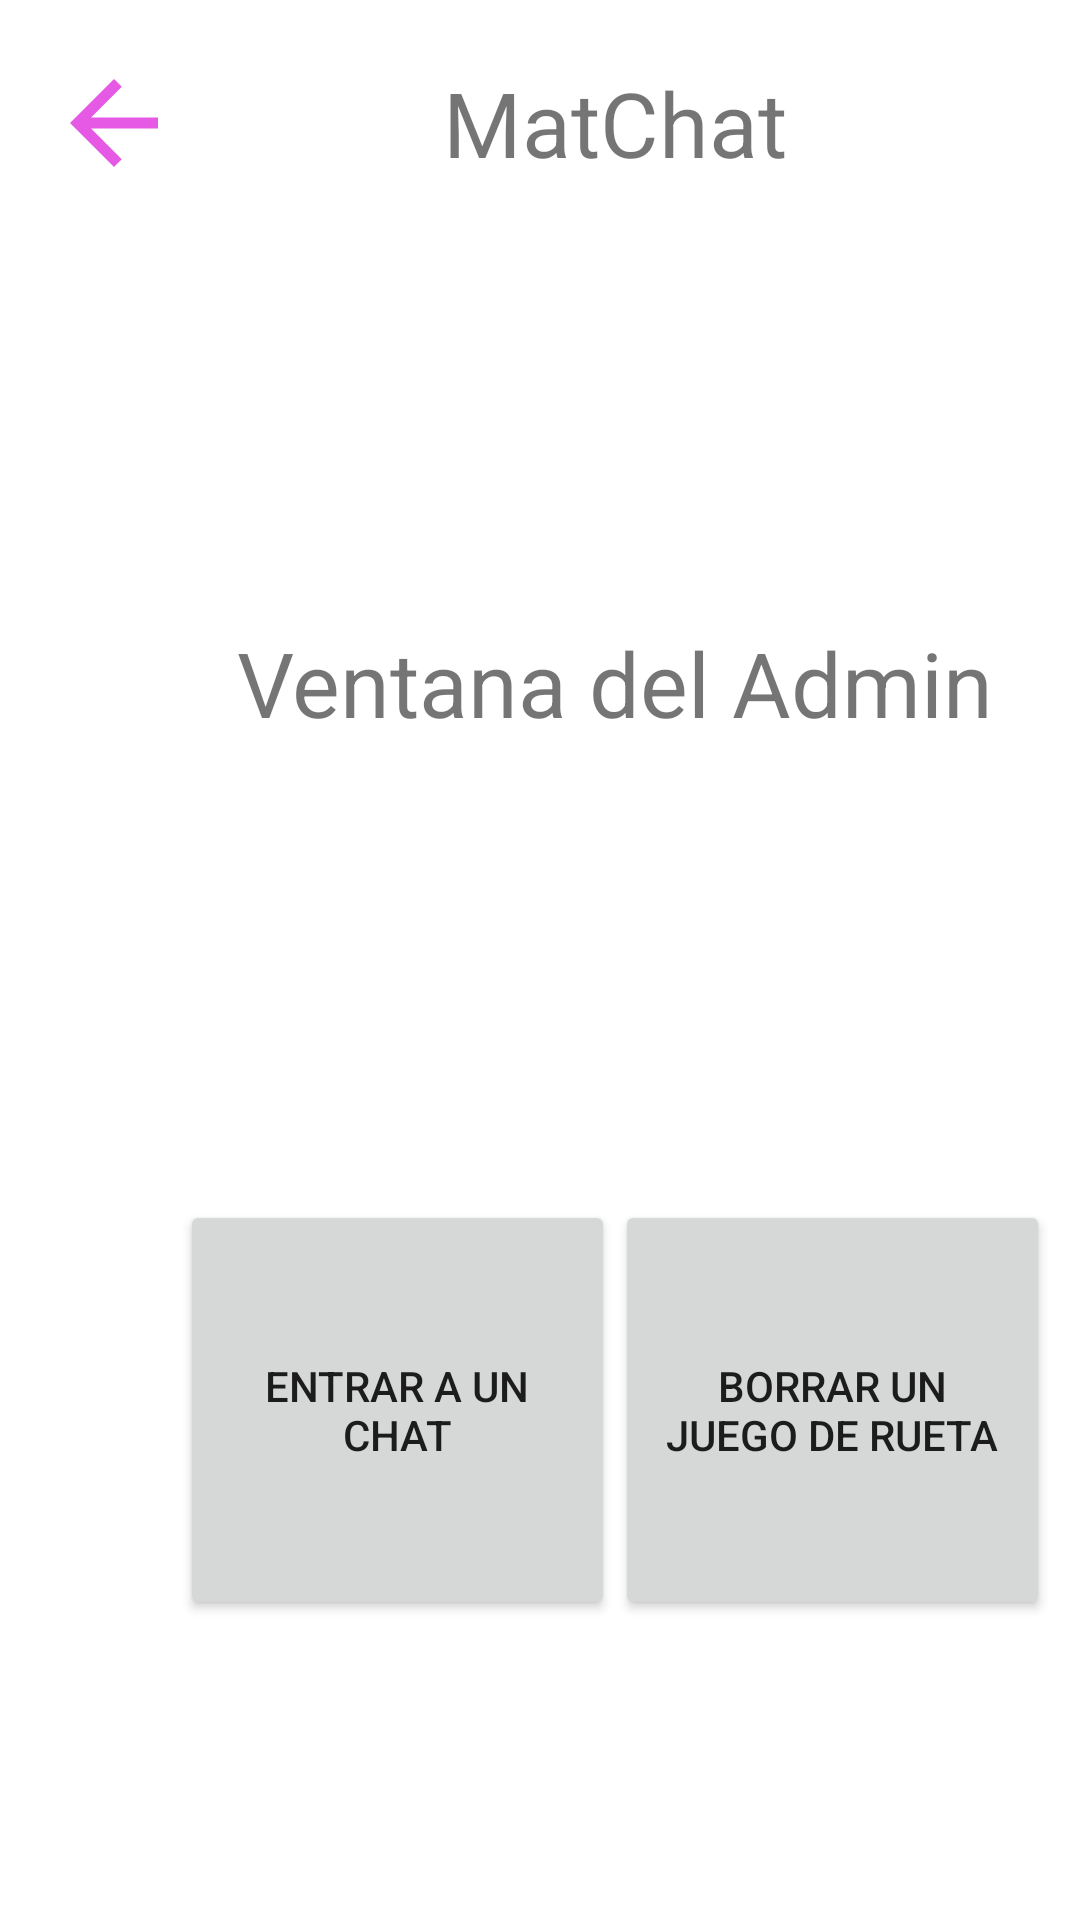

Named icons in this screenshot (1080px×1920px) and their bounding boxes, (x1, y1, x2, y2):
arrow back: (70, 79, 158, 167)
